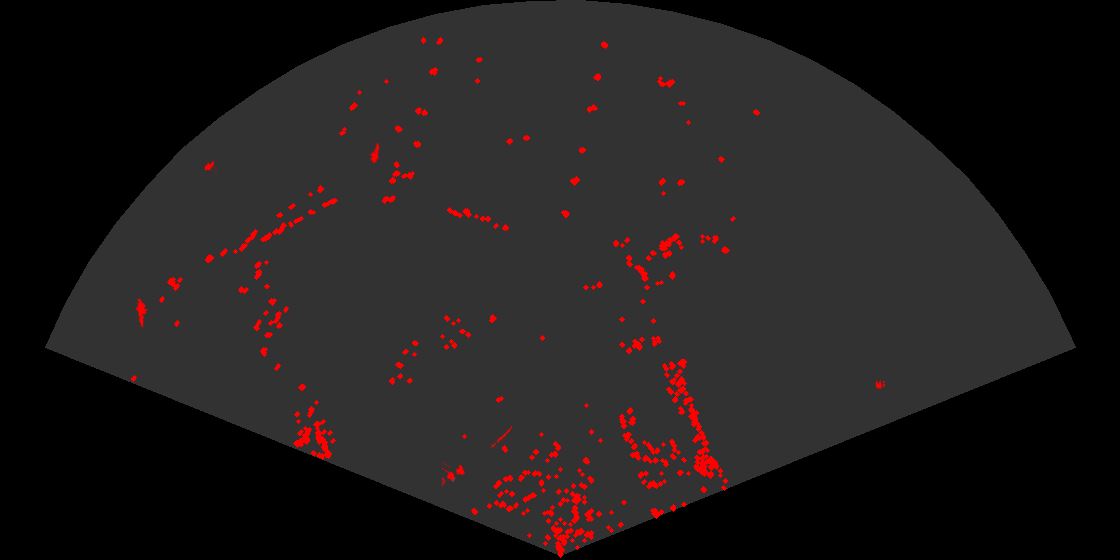AUV: (203, 159, 217, 174)
ball: (875, 379, 886, 391)
cage: (442, 460, 466, 488)
chain: (490, 424, 514, 451)
frogman: (134, 299, 149, 328), (368, 141, 381, 163)
